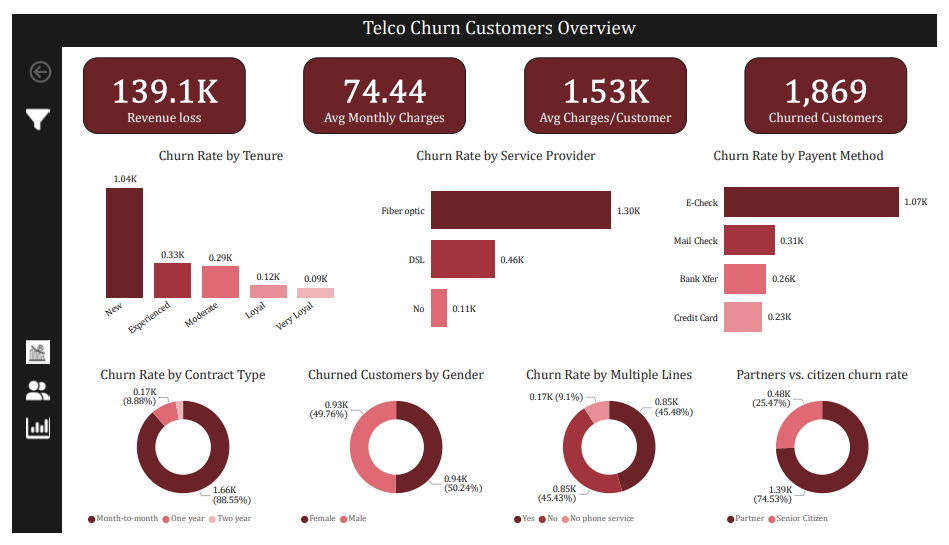

The dashboard page shown, as its layout file describes it:
{"tool":"powerbi","page":{"name":"Churn customers","canvas":[1280,720],"ordinal":0},"visuals":[{"type":"card","title":"Overall Charges","fields":{"Values":["Measure.Monthly Churned Revenue loss"]},"box":[97.9,60.5,225,105.1],"z":0},{"type":"actionButton","box":[0,448.6,68.6,40],"z":0,"group":"g1"},{"type":"shape","box":[0,0,68.9,720.6],"z":1000},{"type":"actionButton","box":[0,501.5,68.6,40],"z":1000,"group":"g1"},{"type":"textbox","box":[68.9,0,1211.1,45.4],"z":2000},{"type":"actionButton","box":[0,554.3,68.6,40],"z":2000,"group":"g1"},{"type":"card","title":"Overall Charges","fields":{"Values":["Measure.Total Churned Customers"]},"box":[1014.3,60,225,105.7],"z":3000},{"type":"card","title":"Overall Charges","fields":{"Values":["Measure.Avg Total Charges"]},"box":[708.8,60,225,105.7],"z":4000},{"type":"card","title":"Overall Charges","fields":{"Values":["Measure.Avg Monthly Charges"]},"box":[403.4,60,225,105.7],"z":5000},{"type":"donutChart","title":"Churn Rate by Contract Type","fields":{"Category":["Telco-Customer-Churn.Contract"],"Y":["Count(Telco-Customer-Churn.customerID)"]},"box":[98.6,491.4,275.7,228.6],"z":6000},{"type":"donutChart","title":"Partners vs. citizen churn rate","fields":{"Category":["Telco-Customer-Churn.Demographic"],"Y":["Count(Telco-Customer-Churn.customerID)"]},"box":[983.5,491,275,229],"z":7000},{"type":"clusteredBarChart","title":"Churn Rate by Service Provider","fields":{"Y":["CountNonNull(Telco-Customer-Churn.customerID)"],"Category":["Telco-Customer-Churn.InternetService"]},"box":[493.6,187.1,380,281.4],"z":8000},{"type":"donutChart","title":" Churned Customers by Gender","fields":{"Y":["Count(Telco-Customer-Churn.customerID)"],"Category":["Telco-Customer-Churn.gender"]},"box":[394,491,275,229],"z":9000},{"type":"donutChart","title":"Churn Rate  by Multiple Lines ","fields":{"Y":["Count(Telco-Customer-Churn.customerID)"],"Category":["Telco-Customer-Churn.MultipleLines"]},"box":[688.8,491,275,229],"z":10000},{"type":"clusteredColumnChart","title":"Churn Rate  by Tenure","fields":{"Category":["Telco-Customer-Churn.Tenure Group"],"Y":["Count(Telco-Customer-Churn.customerID)"]},"box":[98.6,187.1,380,281.4],"z":11000},{"type":"clusteredBarChart","title":"Churn Rate by Payent Method","fields":{"Y":["CountNonNull(Telco-Customer-Churn.customerID)"],"Category":["Telco-Customer-Churn.AbbreviatedPayment"]},"box":[898.6,187.1,380,281.4],"z":12000},{"type":"actionButton","box":[18.6,60,50,40],"z":13000},{"type":"actionButton","box":[0,125.7,68.6,40],"z":14000},{"type":"group","id":"g1","title":"Page Navigation","box":[0,448.6,68.6,145.7],"z":15000}]}

Visuals, with their boxes on the page's 1280x720 design canvas (x1, y1, x2, y2). These are canvas units, not pixel positions in the 949x545 screenshot, which may show the page scaled, cropped or inside an application window:
"Overall Charges" card: bbox(98, 60, 323, 166)
actionButton: bbox(0, 449, 69, 489)
shape: bbox(0, 0, 69, 721)
actionButton: bbox(0, 502, 69, 542)
textbox: bbox(69, 0, 1280, 45)
actionButton: bbox(0, 554, 69, 594)
"Overall Charges" card: bbox(1014, 60, 1239, 166)
"Overall Charges" card: bbox(709, 60, 934, 166)
"Overall Charges" card: bbox(403, 60, 628, 166)
"Churn Rate by Contract Type" donutChart: bbox(99, 491, 374, 720)
"Partners vs. citizen churn rate" donutChart: bbox(984, 491, 1258, 720)
"Churn Rate by Service Provider" clusteredBarChart: bbox(494, 187, 874, 468)
" Churned Customers by Gender" donutChart: bbox(394, 491, 669, 720)
"Churn Rate  by Multiple Lines " donutChart: bbox(689, 491, 964, 720)
"Churn Rate  by Tenure" clusteredColumnChart: bbox(99, 187, 479, 468)
"Churn Rate by Payent Method" clusteredBarChart: bbox(899, 187, 1279, 468)
actionButton: bbox(19, 60, 69, 100)
actionButton: bbox(0, 126, 69, 166)
"Page Navigation" group: bbox(0, 449, 69, 594)
